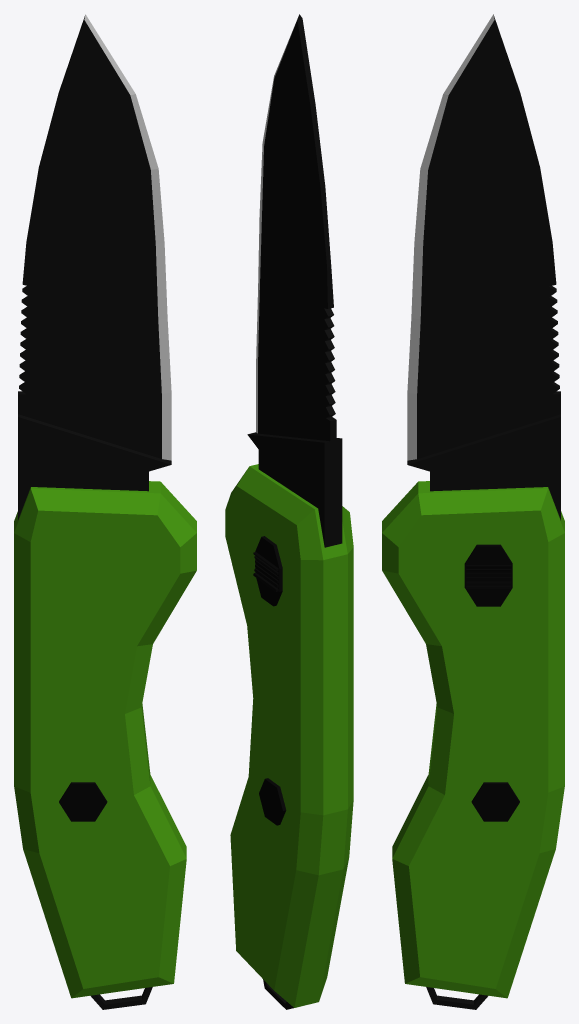
Rendered from Pocket Knife.obj.
3 views of the same model, side by side, from view 1: azimuth 90°, elevation 25°; view 2: azimuth 210°, elevation 25°; view 3: azimuth 270°, elevation 25° (orthographic).
Parts seen in each view (by area): view 1: Pocket_Knife_Plane.002; view 2: Pocket_Knife_Plane.002; view 3: Pocket_Knife_Plane.002.
Part boxes in pixels (x1,y1,x2,y2): Pocket_Knife_Plane.002: (14,14,196,1009); Pocket_Knife_Plane.002: (225,14,353,1009); Pocket_Knife_Plane.002: (382,14,564,1009).
Size of the model in its own units: 0.0143 by 0.2182 by 0.0364.
